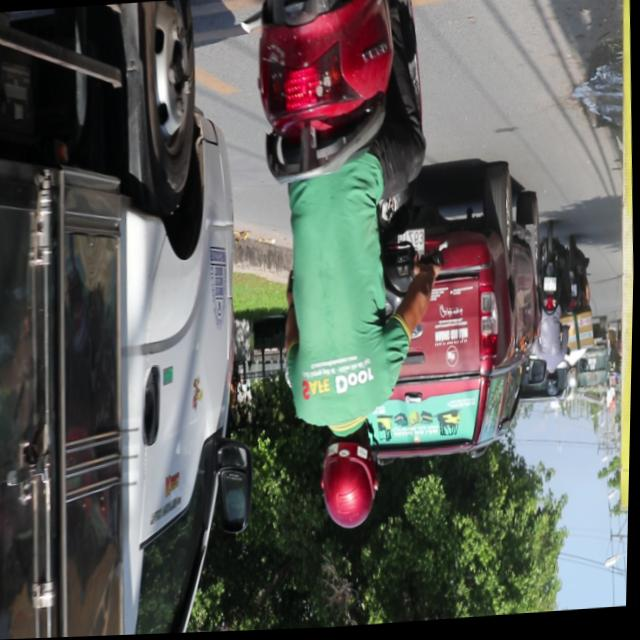helmet: (316, 426, 383, 534)
licenseplate: (233, 0, 454, 539)
